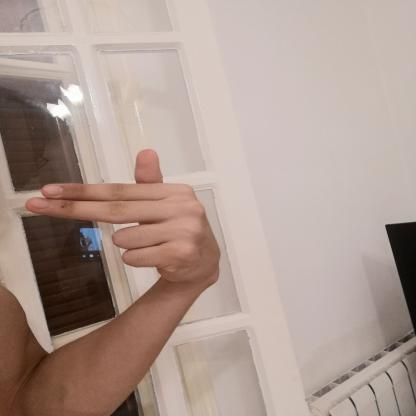GHAYN: (14, 141, 235, 294)
